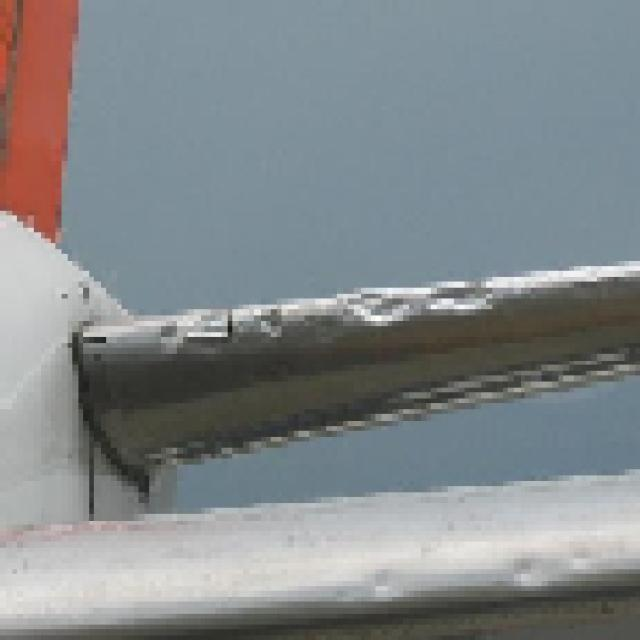dent: (428, 277, 497, 317), (349, 293, 420, 330), (188, 314, 239, 350), (511, 554, 551, 593), (145, 320, 187, 356), (257, 305, 290, 339), (365, 574, 403, 603)
